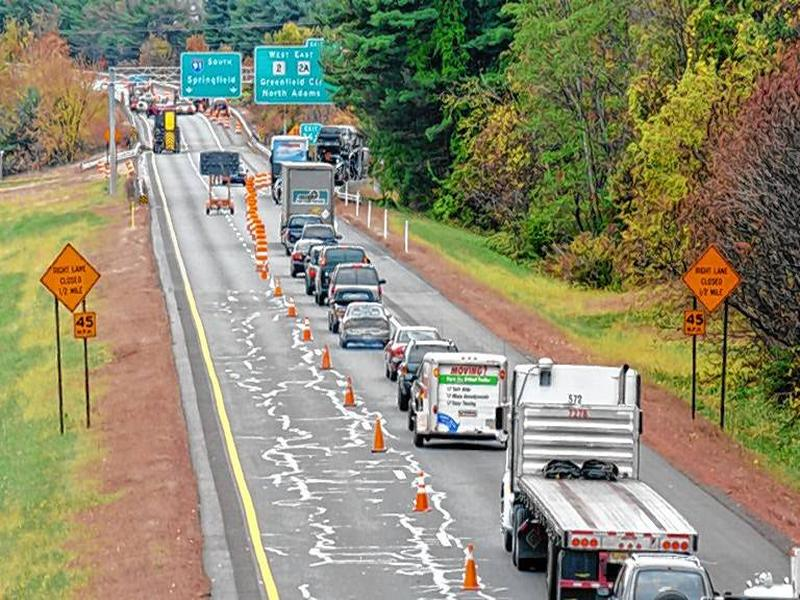Cone: (341, 377, 360, 408), (371, 419, 388, 453), (319, 344, 334, 370)
